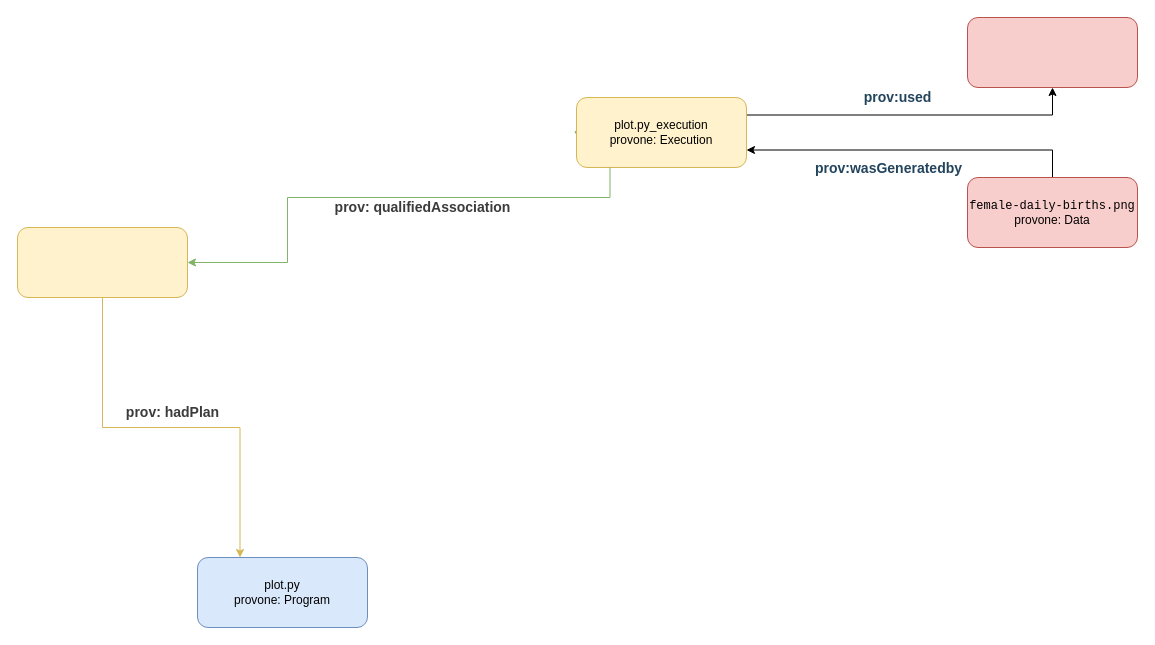
Image size: 1155x645. Some labels were removed from this diagram. The shapes that lost their labels are listed below. From the top down, each one's box as (x1, y1, x2, y2) in pixels, then its label:
(966, 16, 1138, 88): daily-total-female-births-CA.csv provone: Data
(16, 226, 188, 298): associated_plan provone: Association
